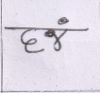anusvara: (58, 17, 68, 25)
